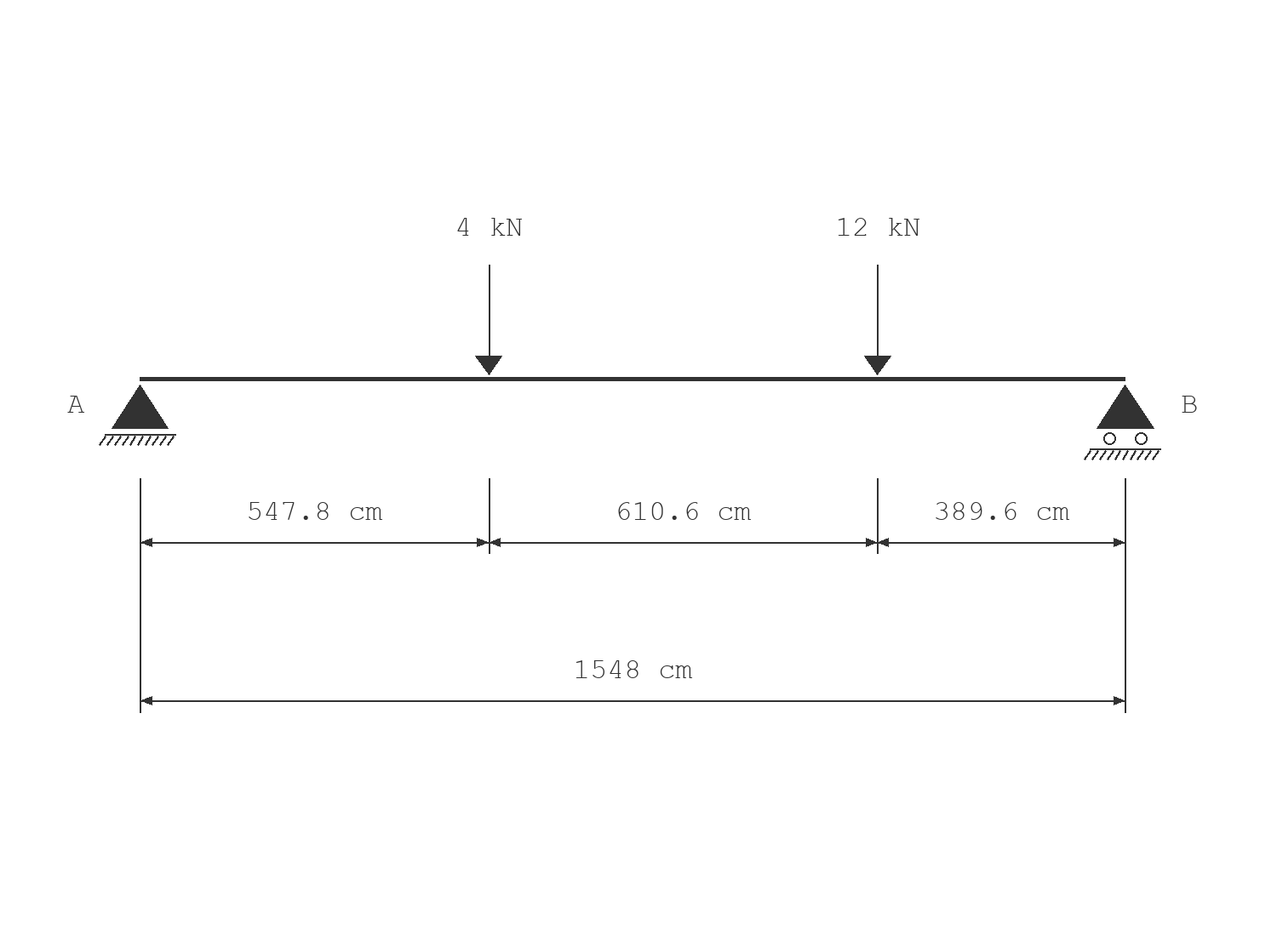pin_support: (99, 385, 176, 446)
point_load: (475, 265, 502, 375), (864, 265, 891, 375)
roller_support: (1084, 385, 1161, 460)
